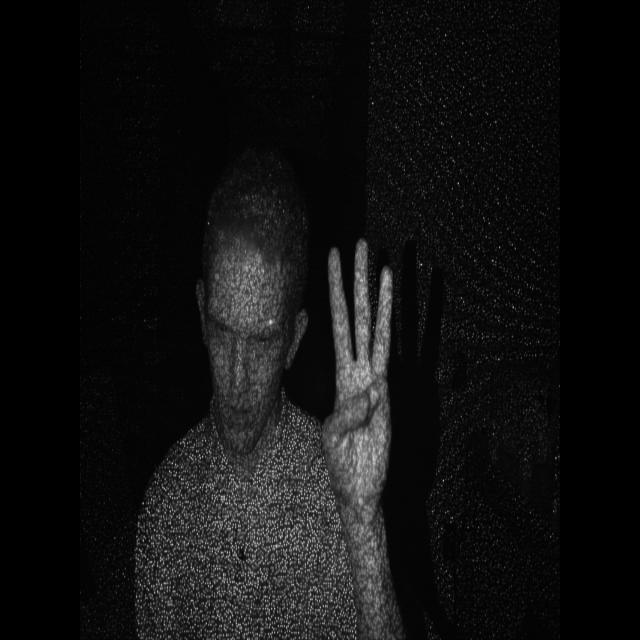W: (311, 222, 405, 502)
